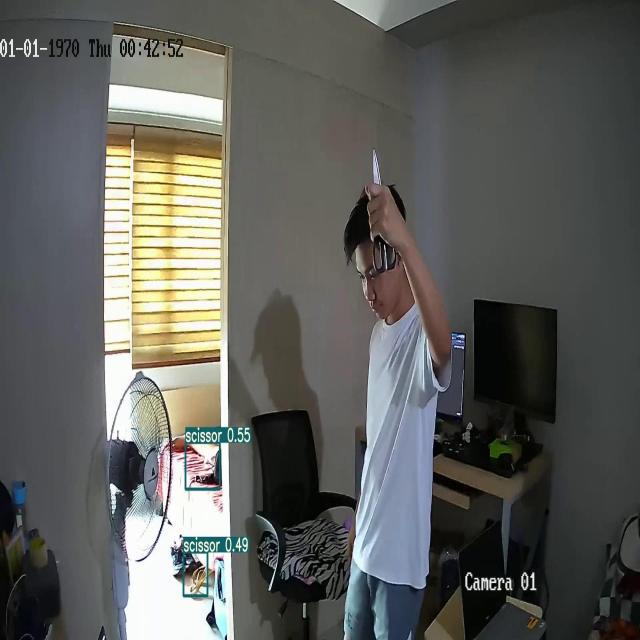scissor: (372, 150, 397, 274)
